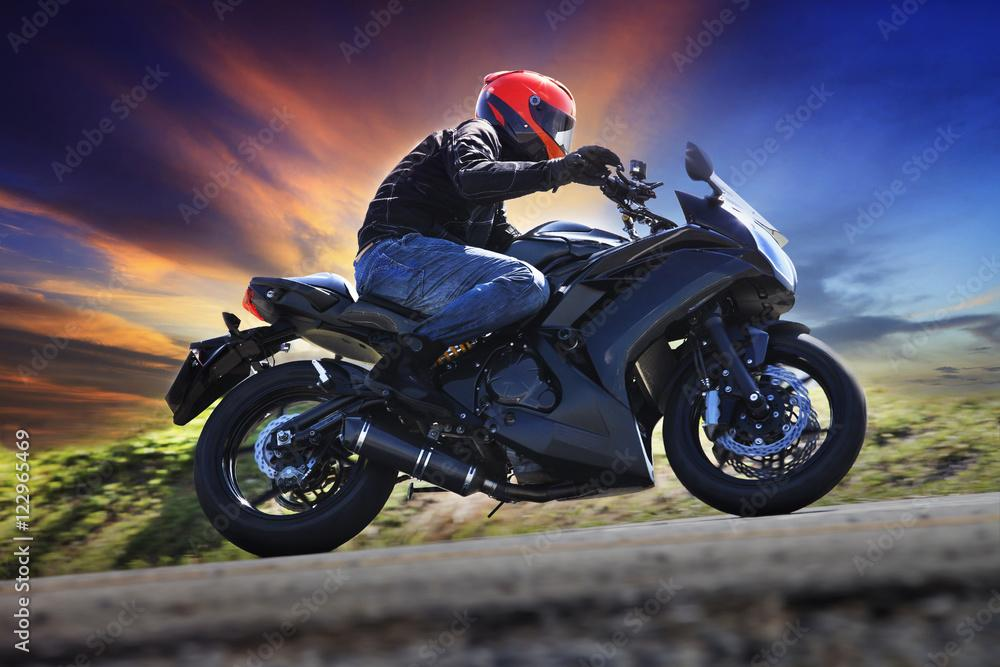helmet: (474, 69, 577, 185)
